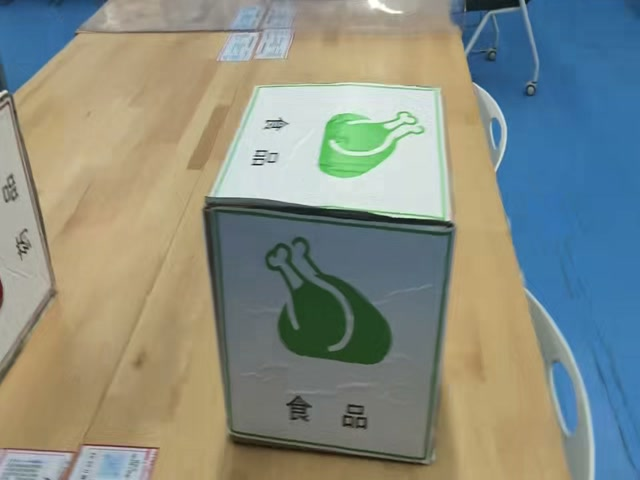Cube_food: (202, 79, 449, 226)
